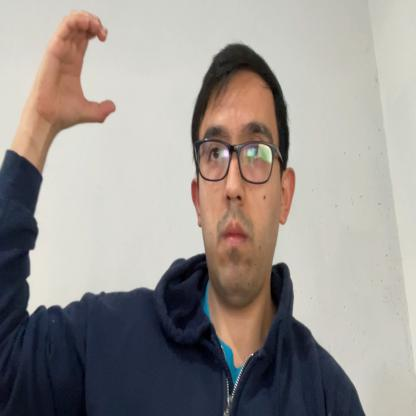C: (42, 9, 116, 129)
